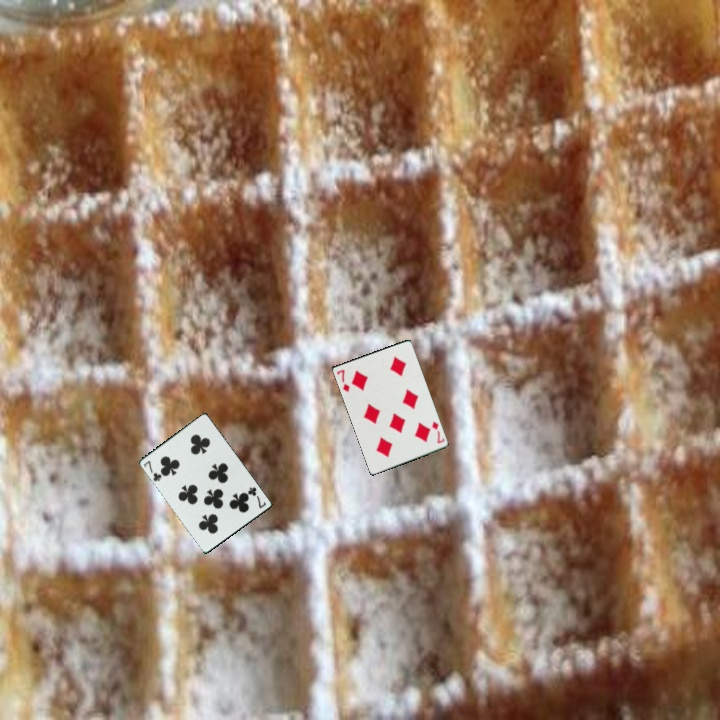7c: (244, 483, 269, 511), (140, 457, 164, 484)
7d: (334, 366, 353, 395), (429, 418, 448, 446)
